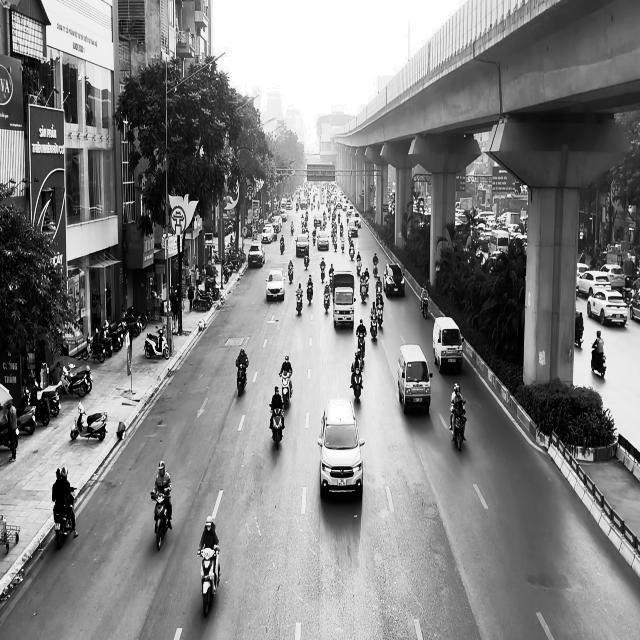car: (317, 396, 365, 498), (397, 344, 432, 415), (383, 263, 405, 297), (265, 269, 285, 301)
motorbike: (197, 545, 221, 617), (53, 487, 77, 549), (70, 402, 108, 441), (150, 491, 171, 551), (144, 325, 170, 359), (449, 406, 466, 452), (269, 403, 284, 450), (235, 359, 248, 397), (279, 371, 292, 408), (591, 347, 606, 378), (350, 367, 363, 399), (420, 292, 429, 318), (295, 291, 303, 315), (306, 282, 313, 305), (288, 265, 293, 283)
